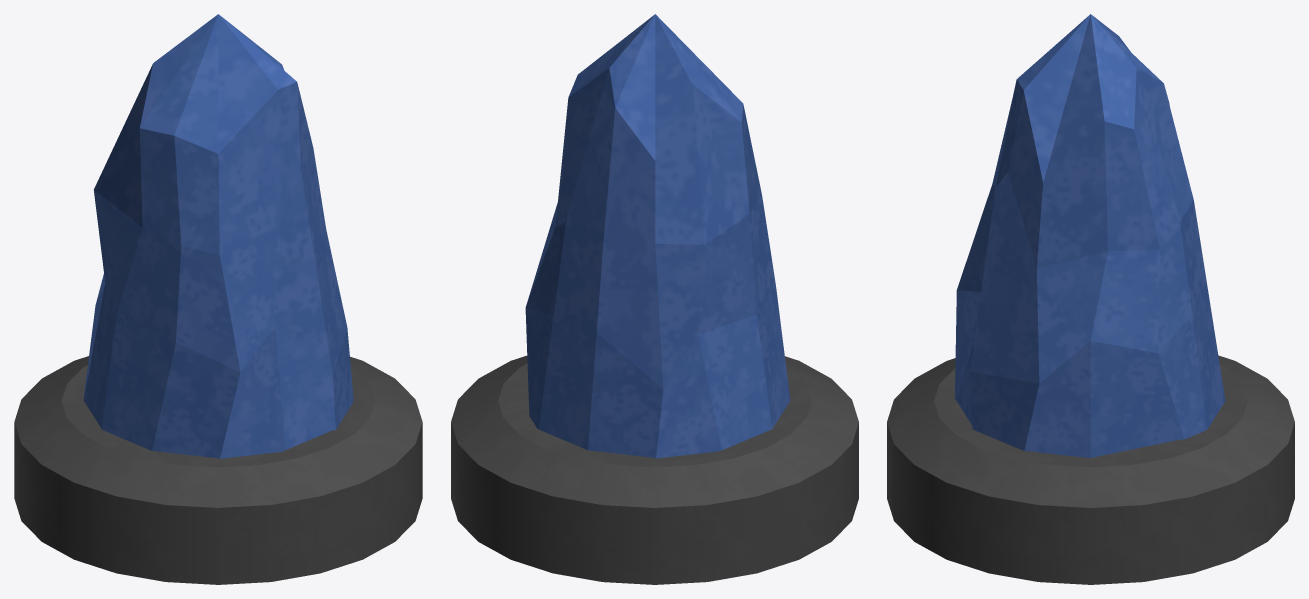
Rendered from StandWithCrystal.fbx.
3 views of the same model, side by side, from view 1: azimuth 30°, elevation 25°; view 2: azimuth 150°, elevation 25°; view 3: azimuth 270°, elevation 25° (orthographic).
Parts seen in each view (by area): view 1: StandWithCrystal; view 2: StandWithCrystal; view 3: StandWithCrystal.
Boxes of the visible parts, box(x1,y1,x2,y2) form: StandWithCrystal: box(14, 14, 422, 584); StandWithCrystal: box(451, 14, 858, 584); StandWithCrystal: box(887, 14, 1294, 584).
Size of the model in its own units: 200 by 262 by 200.
Materials: 1 (1 with a texture image).
